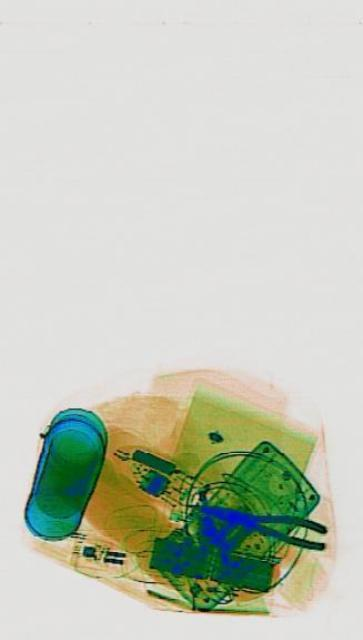Pliers: (192, 489, 327, 551)
